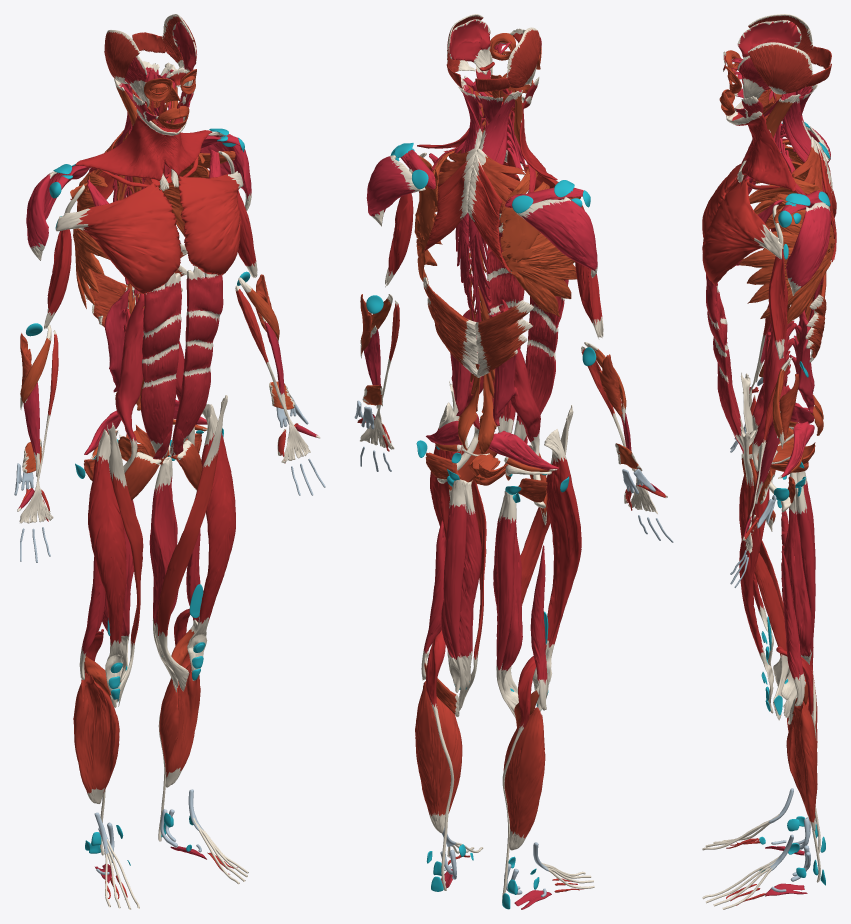
The model's file is muscular-3.glb.
3 renders of one model, left to right at view 1: azimuth 30°, elevation 25°; view 2: azimuth 150°, elevation 25°; view 3: azimuth 270°, elevation 25°, orthographic. The views are drawn at different scales.
Parts seen in each view (by area): view 1: Sternocostal head of pectoralis major muscle.r, Rectus abdominis muscle.r, Sternocostal head of pectoralis major muscle.l, Rectus femoris muscle.r, Rectus abdominis muscle.l, Rectus femoris muscle.l, Soleus muscle.r, Sartorius muscle.l, Soleus muscle.l, Platysma.r, Semimembranosus muscle.l, Psoas major.r (+27 smaller); view 2: Rectus femoris muscle.r, Soleus muscle.l, Serratus anterior muscle.r, Soleus muscle.r, Scapular spinal part of deltoid muscle.r, Semitendinosus muscle.l, Semimembranosus muscle.l, Rectus abdominis muscle.r, Semitendinosus muscle.r, Serratus posterior inferior muscle.r, Serratus posterior inferior muscle.l, Semimembranosus muscle.r (+32 smaller); view 3: Sternocostal head of pectoralis major muscle.l, Serratus anterior muscle.l, Soleus muscle.l, Scapular spinal part of deltoid muscle.l, Temporoparietalis muscle.l, Semimembranosus muscle.l, Platysma.l, Rectus femoris muscle.l, Sartorius muscle.l, Rectus abdominis muscle.l, Psoas major.l, Semitendinosus muscle.l (+36 smaller).
Part boxes in pixels (box(x1,y1,x2,y2)): Sternocostal head of pectoralis major muscle.r: box(56, 182, 181, 293); Rectus abdominis muscle.r: box(140, 272, 181, 458); Sternocostal head of pectoralis major muscle.l: box(178, 171, 243, 275); Rectus femoris muscle.r: box(88, 429, 126, 700); Rectus abdominis muscle.l: box(169, 266, 223, 456); Rectus femoris muscle.l: box(187, 404, 235, 680); Soleus muscle.r: box(73, 673, 119, 803); Sartorius muscle.l: box(157, 395, 227, 691); Soleus muscle.l: box(159, 652, 200, 787); Platysma.r: box(75, 109, 176, 180); Semimembranosus muscle.l: box(149, 457, 178, 668); Psoas major.r: box(115, 293, 144, 472); Rectus femoris muscle.r: box(532, 429, 581, 711); Soleus muscle.l: box(415, 681, 462, 833); Serratus anterior muscle.r: box(500, 167, 576, 316); Soleus muscle.r: box(503, 707, 545, 850); Scapular spinal part of deltoid muscle.r: box(516, 197, 597, 277); Semitendinosus muscle.l: box(443, 479, 466, 710); Semimembranosus muscle.l: box(441, 480, 481, 690); Rectus abdominis muscle.r: box(514, 279, 568, 440); Semitendinosus muscle.r: box(496, 490, 516, 717); Serratus posterior inferior muscle.r: box(475, 300, 533, 377); Serratus posterior inferior muscle.l: box(423, 276, 477, 377); Semimembranosus muscle.r: box(493, 495, 522, 705); Sternocostal head of pectoralis major muscle.l: box(702, 179, 781, 284); Serratus anterior muscle.l: box(738, 178, 834, 324); Soleus muscle.l: box(786, 701, 817, 831); Scapular spinal part of deltoid muscle.l: box(786, 202, 830, 295); Temporoparietalis muscle.l: box(748, 42, 813, 94); Semimembranosus muscle.l: box(781, 488, 811, 699); Platysma.l: box(726, 111, 795, 191); Rectus femoris muscle.l: box(739, 442, 777, 713); Sartorius muscle.l: box(741, 428, 788, 720); Rectus abdominis muscle.l: box(706, 276, 743, 449); Psoas major.l: box(752, 323, 795, 512); Semitendinosus muscle.l: box(783, 486, 815, 718).
Bounding box in the file's own units: 0.6293 × 1.66 × 0.2397.
